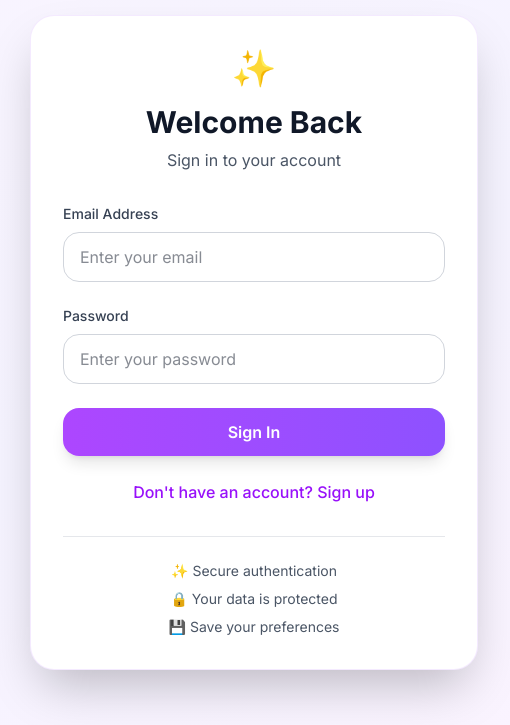
Test: LoginForm › switches to register mode when toggle is clicked
Click the button with test id "register-toggle". click: point(254, 492)
box: [133,480,375,504]
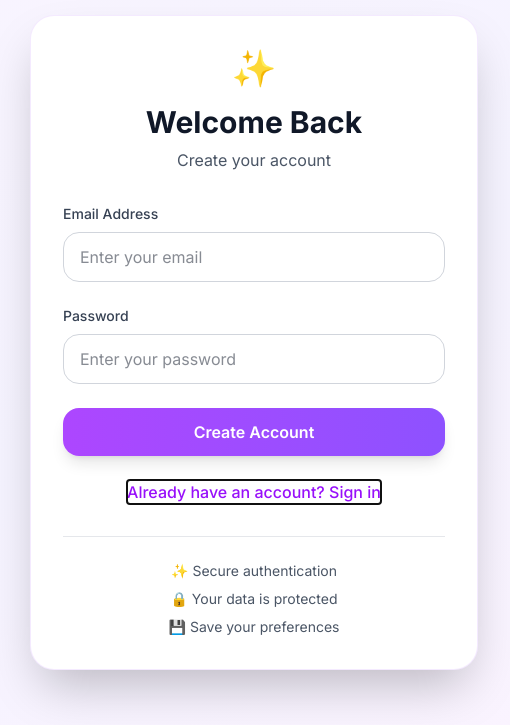
Expected: the text "Create your account" is shown, [177,150,331,170]
Expected: the button with test id "register-button" is shown, [63,408,445,456]
